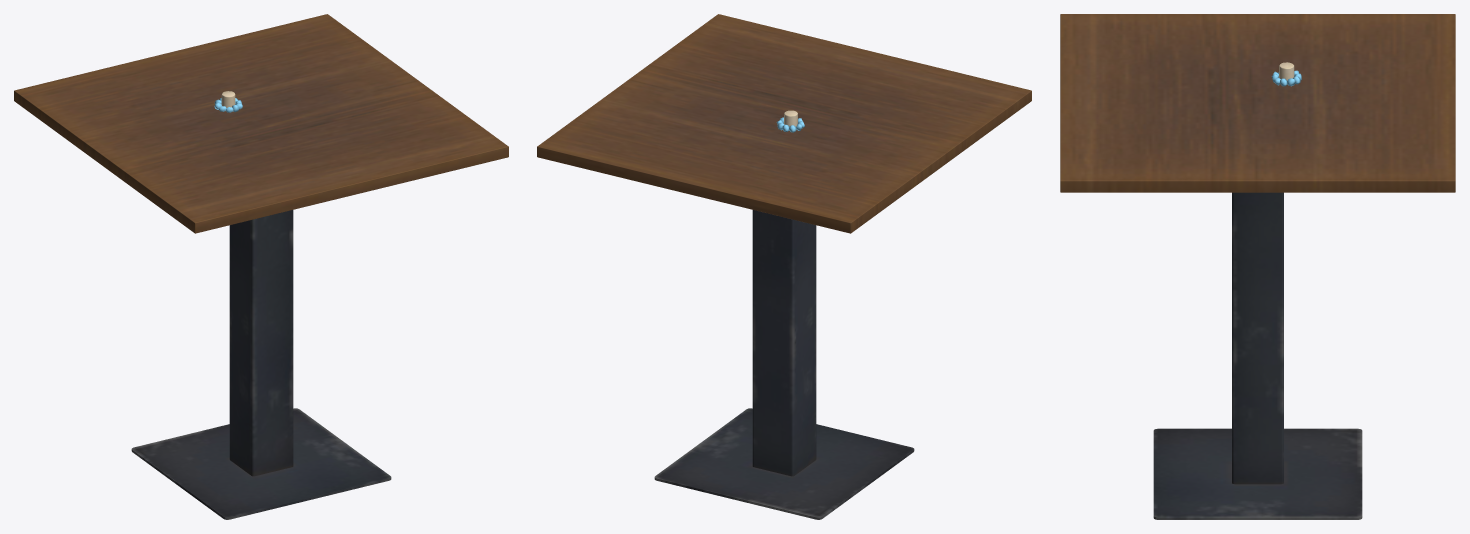
The model's file is ARC0810056.fbx.
3 renders of one model, left to right at view 1: azimuth 30°, elevation 25°; view 2: azimuth 150°, elevation 25°; view 3: azimuth 270°, elevation 25°, orthographic. The views are drawn at different scales.
Parts seen in each view (by area): view 1: smARC0810056; view 2: smARC0810056; view 3: smARC0810056.
Boxes of the visible parts, <box> form: smARC0810056: <box>14,14,508,519</box>; smARC0810056: <box>537,14,1031,519</box>; smARC0810056: <box>1060,14,1455,519</box>.
Size of the model in its own units: 107 by 119 by 107.
Materials: 1 (1 with a texture image).
